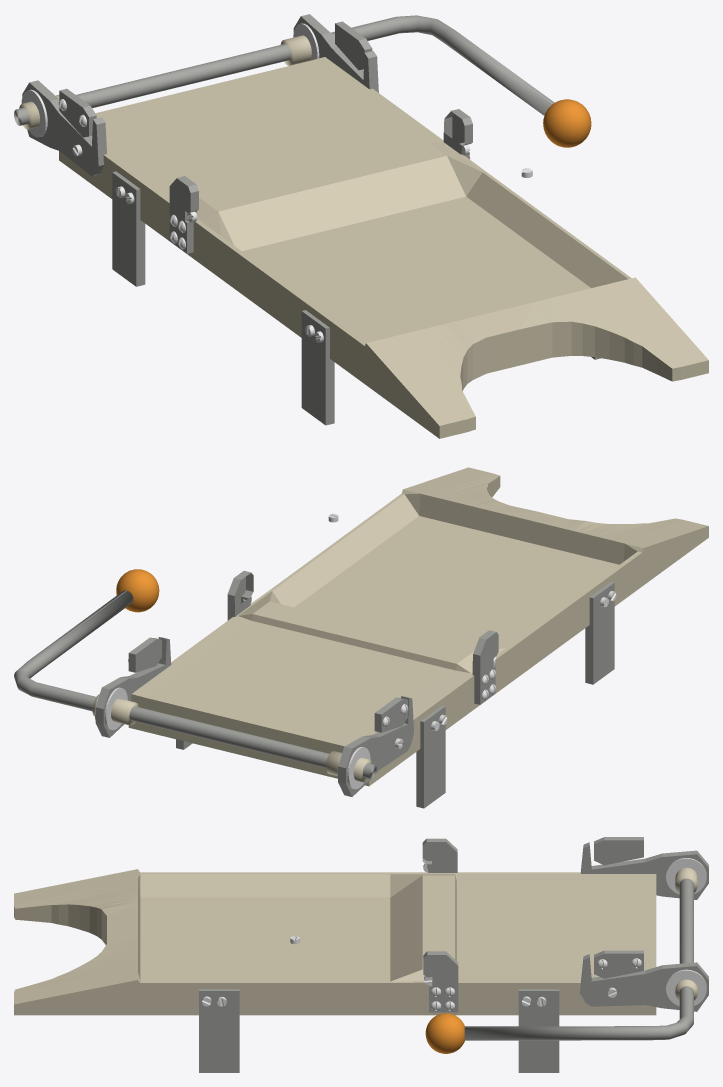
The model's file is panel_nopanel.dae.
The picture shows the model from 3 angles, top to bottom: view 1: azimuth 30°, elevation 25°; view 2: azimuth 150°, elevation 25°; view 3: azimuth 270°, elevation 25°; orthographic projection. The views are drawn at different scales.
Visible parts, largest first — view 1: Cube.001, Cylinder.018, Cube.013, Cube.012, Cube.011, Sphere.010, Cube.005, Cube.003, Cube.004, Cube.002, Cube.010; view 2: Cube.001, Cylinder.018, Cube.013, Cube.012, Cube.011, Cube.005, Cube.003, Sphere.010, Cube.002, Cube.004, Cube.010, Cylinder.025 (+1 smaller); view 3: Cube.001, Cylinder.018, Cube.005, Cube.008, Cube.007, Cube.011, Cube.002, Sphere.010, Cube.010, Cube.003, Cube.004, Cylinder.013 (+1 smaller).
Boxes of the visible parts, <box> form: Cube.001: <box>59,57,708,438</box>; Cylinder.018: <box>14,15,554,125</box>; Cube.013: <box>301,310,334,425</box>; Cube.012: <box>112,171,145,286</box>; Cube.011: <box>22,80,106,176</box>; Sphere.010: <box>543,99,591,147</box>; Cube.005: <box>293,14,378,92</box>; Cube.003: <box>169,176,198,253</box>; Cube.004: <box>335,21,372,70</box>; Cube.002: <box>443,109,472,158</box>; Cube.010: <box>59,88,96,137</box>; Cube.001: <box>128,467,708,786</box>; Cylinder.018: <box>14,590,376,779</box>; Cube.013: <box>585,581,614,684</box>; Cube.012: <box>416,705,445,808</box>; Cube.011: <box>338,696,413,796</box>; Cube.005: <box>95,637,171,737</box>; Cube.003: <box>472,630,498,704</box>; Sphere.010: <box>116,569,159,612</box>; Cube.002: <box>227,570,253,620</box>; Cube.004: <box>128,637,161,672</box>; Cube.010: <box>374,697,407,732</box>; Cylinder.025: <box>92,694,138,725</box>; Cube.001: <box>14,869,656,1015</box>; Cylinder.018: <box>464,878,693,1040</box>; Cube.005: <box>580,954,708,1011</box>; Cube.008: <box>199,989,239,1072</box>; Cube.007: <box>518,989,559,1072</box>; Cube.011: <box>581,842,708,899</box>; Cube.002: <box>423,951,458,1012</box>; Sphere.010: <box>425,1013,464,1053</box>; Cube.010: <box>594,837,643,865</box>; Cube.003: <box>422,838,457,872</box>; Cube.004: <box>594,950,643,978</box>; Cylinder.013: <box>666,969,706,1006</box>.
Size of the model in its own units: 4.07 by 6.8 by 1.37.
